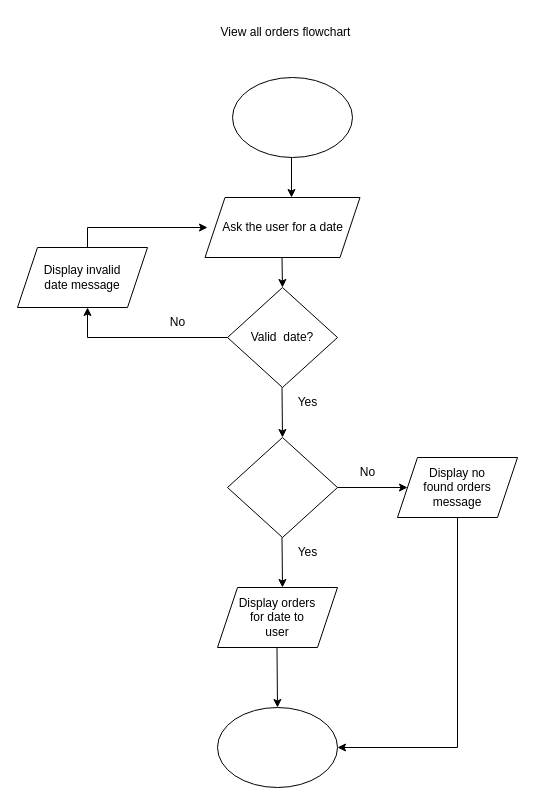
This 535x805 diagram has some shape labels left out. The shapes that lost their labels are listed below. From the top down, each one's box as (x1, y1, x2, y2) in pixels, then its label:
(232, 76, 352, 158): Start
(226, 436, 338, 538): Orders exist for date?
(216, 706, 338, 788): Complete method
